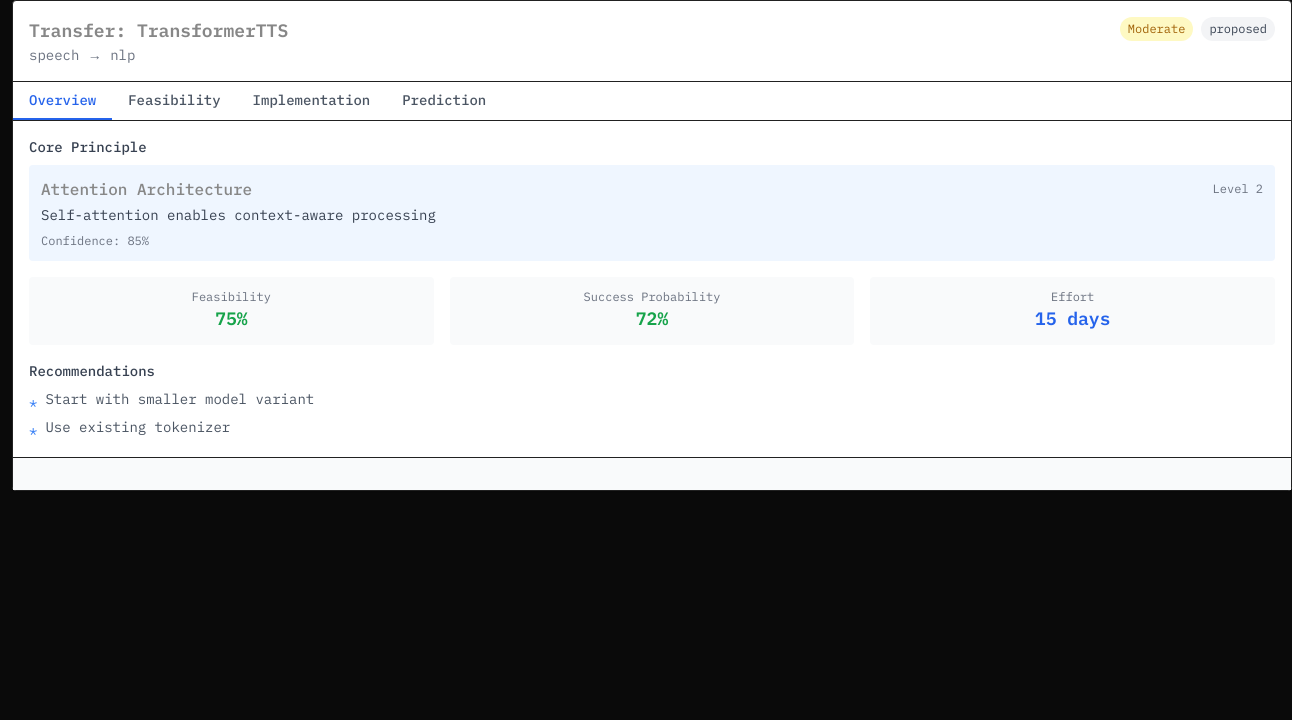
Test: TransferProposal › should switch tabs when clicked
Click the button "Feasibility": [174, 101] box [112, 82, 237, 120]
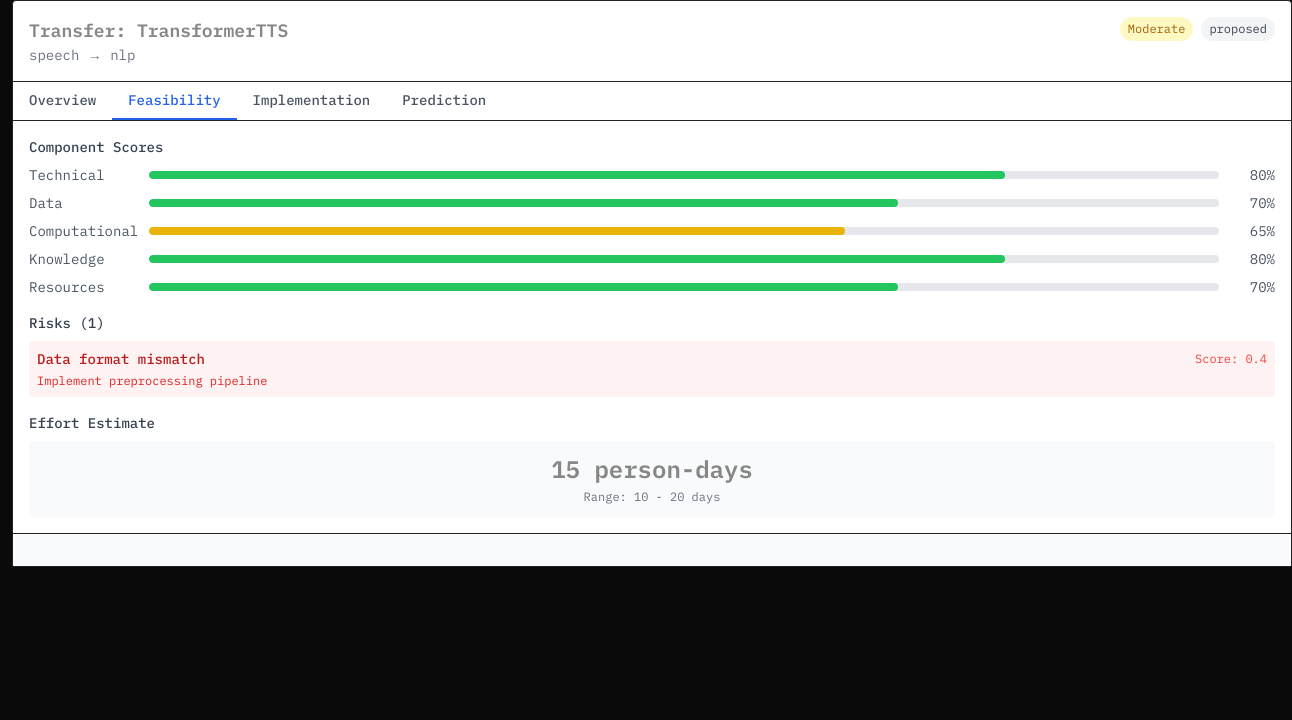
Check: the heading "Component Scores" is shown, box [29, 138, 163, 156]
